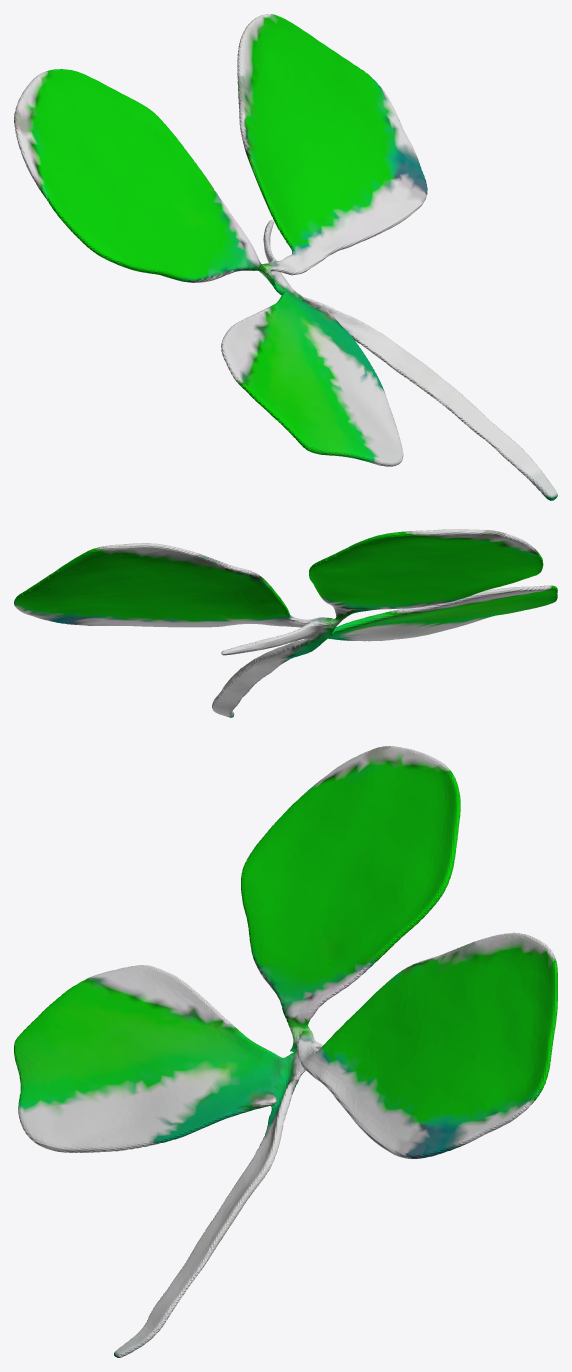
Rendered from clover.glb.
3 renders of one model, top to bottom at view 1: azimuth 30°, elevation 25°; view 2: azimuth 150°, elevation 25°; view 3: azimuth 270°, elevation 25°, orthographic. The views are drawn at different scales.
Visible parts, largest first — view 1: geometry_0; view 2: geometry_0; view 3: geometry_0.
Part boxes in pixels (x1=…): geometry_0: x1=14, y1=14, x2=557, y2=500; geometry_0: x1=14, y1=529, x2=557, y2=717; geometry_0: x1=14, y1=746, x2=557, y2=1357.
Size of the model in its own units: 0.4688 by 0.3942 by 0.4704.
